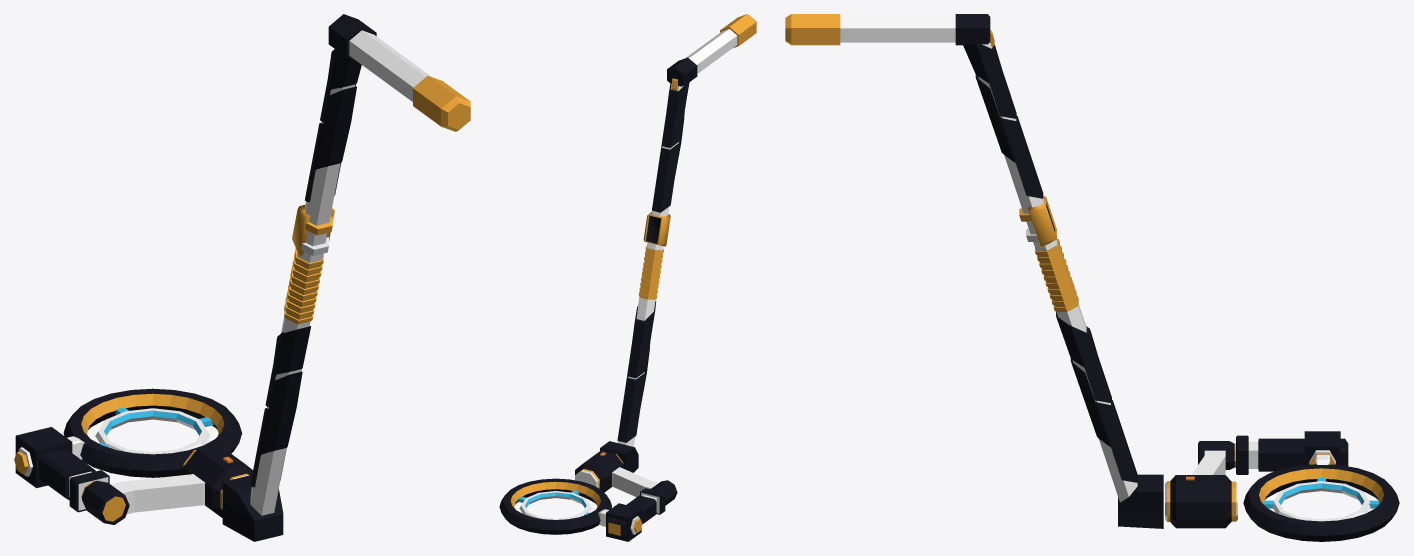
Rendered from Detector.fbx.
3 renders of one model, left to right at view 1: azimuth 30°, elevation 25°; view 2: azimuth 150°, elevation 25°; view 3: azimuth 270°, elevation 25°, orthographic. The views are drawn at different scales.
Parts seen in each view (by area): view 1: 环体.004, 柱体.061, 立方体.122, 立方体.123, 柱体.051, 柱体.052, 柱体.065, 柱体.059, 柱体.050, 环体.005, 柱体.066, 立方体.118 (+7 smaller); view 2: 环体.004, 柱体.065, 柱体.052, 柱体.059, 柱体.064, 柱体.053, 柱体.051, 柱体.066, 立方体.119, 环体.005, 立方体.122, 立方体.125 (+7 smaller); view 3: 环体.004, 柱体.059, 柱体.051, 柱体.061, 柱体.065, 柱体.052, 立方体.123, 柱体.064, 立方体.119, 柱体.050, 柱体.066, 柱体.053 (+4 smaller).
Boxes of the visible parts, x1,y1,x2,y2 form: 环体.004: [63, 388, 242, 477]; 柱体.061: [250, 84, 355, 515]; 立方体.122: [111, 474, 204, 514]; 立方体.123: [222, 475, 283, 541]; 柱体.051: [349, 30, 431, 101]; 柱体.052: [305, 86, 356, 201]; 柱体.065: [250, 371, 302, 487]; 柱体.059: [183, 444, 252, 517]; 柱体.050: [413, 76, 470, 131]; 环体.005: [95, 408, 210, 454]; 柱体.066: [284, 248, 323, 324]; 立方体.118: [15, 427, 72, 488]; 环体.004: [499, 478, 611, 534]; 柱体.065: [617, 343, 650, 442]; 柱体.052: [652, 113, 684, 212]; 柱体.059: [575, 449, 623, 492]; 柱体.064: [627, 301, 656, 378]; 柱体.053: [661, 82, 689, 147]; 柱体.051: [685, 29, 737, 73]; 柱体.066: [639, 246, 663, 299]; 立方体.119: [606, 495, 656, 538]; 环体.005: [519, 491, 591, 519]; 立方体.122: [612, 467, 658, 497]; 立方体.125: [643, 212, 670, 246]; 环体.004: [1243, 464, 1399, 541]; 柱体.059: [1165, 475, 1237, 528]; 柱体.051: [840, 16, 955, 42]; 柱体.061: [978, 42, 1137, 502]; 柱体.065: [1070, 358, 1138, 482]; 柱体.052: [975, 74, 1043, 198]; 立方体.123: [1118, 474, 1163, 528]; 柱体.064: [1056, 311, 1111, 403]; 立方体.119: [1258, 438, 1348, 471]; 柱体.050: [785, 14, 840, 45]; 柱体.066: [1035, 239, 1078, 312]; 柱体.053: [963, 44, 1016, 118].
Size of the model in its own units: 2025 by 5370 by 5863.
